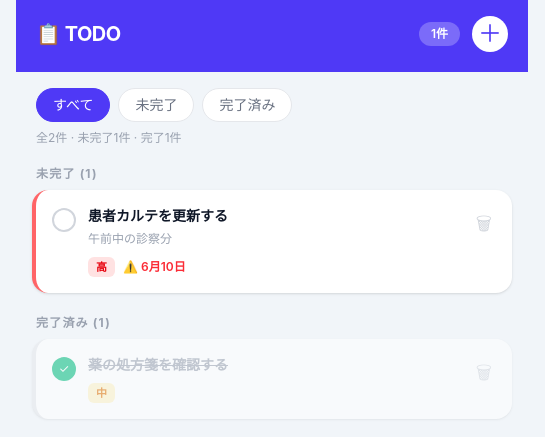
Test: Page コンポーネント — フィルター › 「未完了」フィルターで未完了のタスクのみ表示する
Check: the text "患者カルテを更新する" is shown, box left=88, top=207, right=228, bottom=224
Click the button "未完了" at (156, 105), box left=118, top=88, right=194, bottom=122
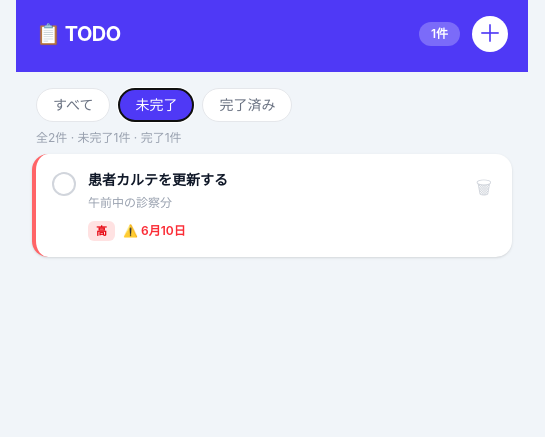
Check: the text "患者カルテを更新する" is shown, box left=88, top=171, right=228, bottom=188
Check: the text "薬の処方箋を確認する" is gone
